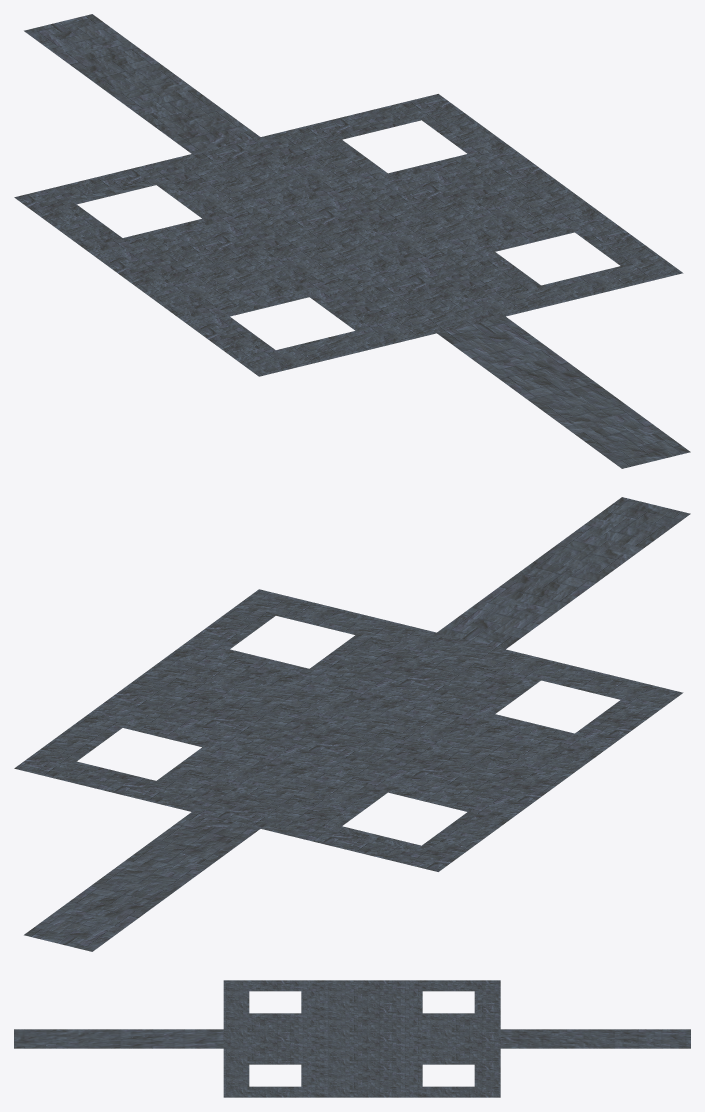
Rendered from LobbyFloor.obj.
3 views of the same model, one above another, from view 1: azimuth 30°, elevation 25°; view 2: azimuth 150°, elevation 25°; view 3: azimuth 270°, elevation 25° (orthographic). The views are drawn at different scales.
Visible parts, largest first — view 1: Circle.003; view 2: Circle.003; view 3: Circle.003.
Part boxes in pixels (<box>): Circle.003: <box>14,14,690,468</box>; Circle.003: <box>14,497,690,951</box>; Circle.003: <box>14,980,690,1097</box>.
Size of the model in its own units: 52.45 by 0 by 128.
1 material, 1 textured.
